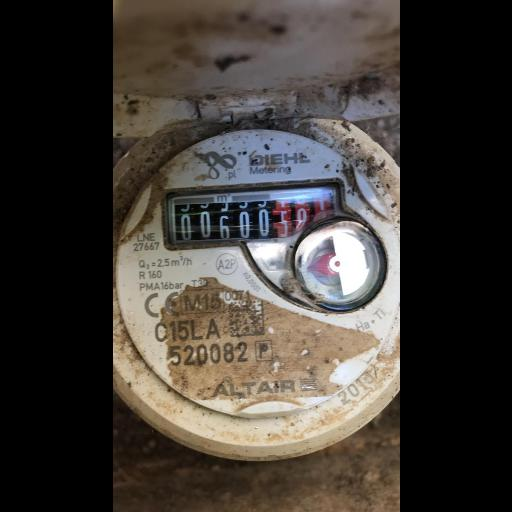0: (233, 202, 254, 241), (252, 201, 273, 240), (175, 204, 196, 242), (194, 203, 215, 241)
2: (311, 189, 331, 225)
5: (271, 199, 292, 239)
6: (212, 201, 234, 241)
9: (291, 198, 310, 235)
border_water_meter_number: (159, 176, 349, 251)
